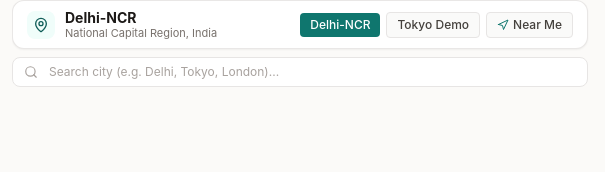
Test: LocationPicker autocomplete, stale-response guard, and keyboard navigation › ignores stale out-of-order search responses after a newer query resolves
The image size is (605, 172).
Note: Trigger debounced request for "Del"
Type "Del" into the dropdown named "search city or location" at (300, 72), box [12,57,588,87]
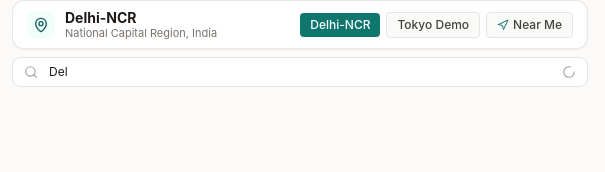
Note: Type newer query "Tokyo" while "Del" is still in flight
Replace the text in the dropdown named "search city or location" with "Tokyo" at (300, 72), box [12,57,588,87]
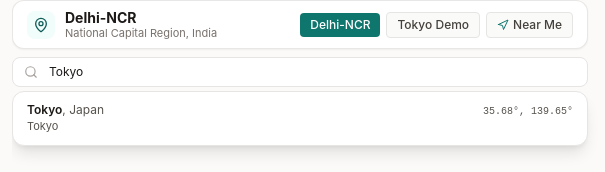
Result: the option "Tokyo, Japan Tokyo 35.68°, 139.65°" is shown at [13,92,587,145]
